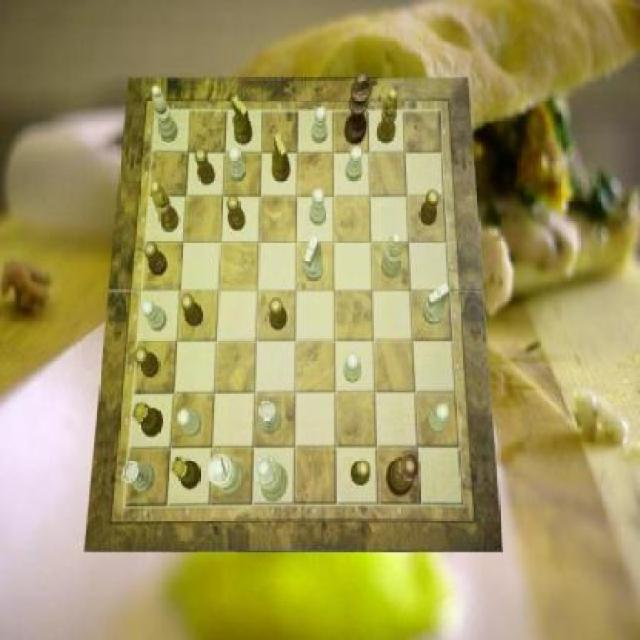bishop: (151, 181, 178, 234), (377, 89, 397, 144)
black-bishop: (344, 72, 372, 145)
black-king: (232, 96, 252, 144), (272, 134, 292, 181)
black-knight: (144, 242, 168, 276), (196, 148, 217, 185), (135, 348, 160, 378), (182, 294, 204, 328), (420, 190, 440, 226), (227, 195, 246, 230), (269, 297, 287, 331), (351, 460, 371, 486)
black-pawn: (388, 451, 420, 496)
black-queen: (132, 402, 163, 436), (172, 457, 202, 491)
black-rook: (150, 85, 178, 142), (381, 232, 404, 278)
white-bishop: (208, 454, 244, 496)
white-king: (423, 283, 450, 325), (303, 235, 323, 281)
white-knight: (142, 300, 168, 332), (426, 403, 449, 434), (178, 409, 202, 437), (309, 190, 326, 226), (229, 148, 247, 182), (312, 106, 328, 144), (346, 146, 363, 181), (345, 352, 362, 383)
white-pawn: (254, 454, 289, 501)
white-queen: (124, 460, 156, 494), (260, 400, 283, 435)
